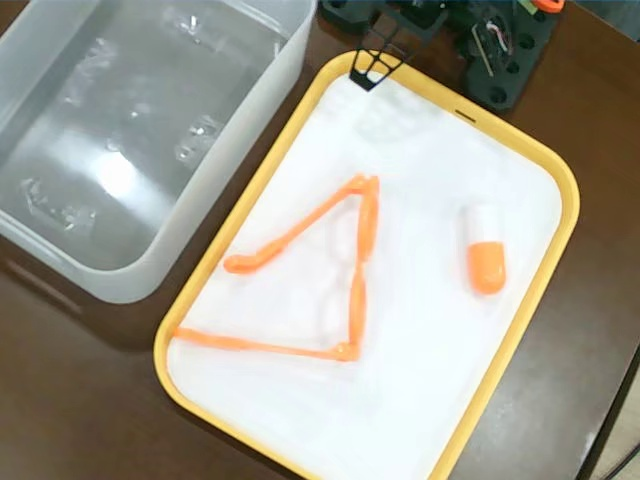pill: (458, 199, 510, 296)
